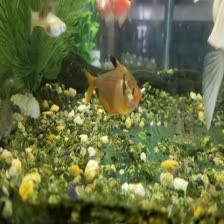Guppy: (23, 9, 70, 37)
Transparente: (75, 58, 153, 112)
